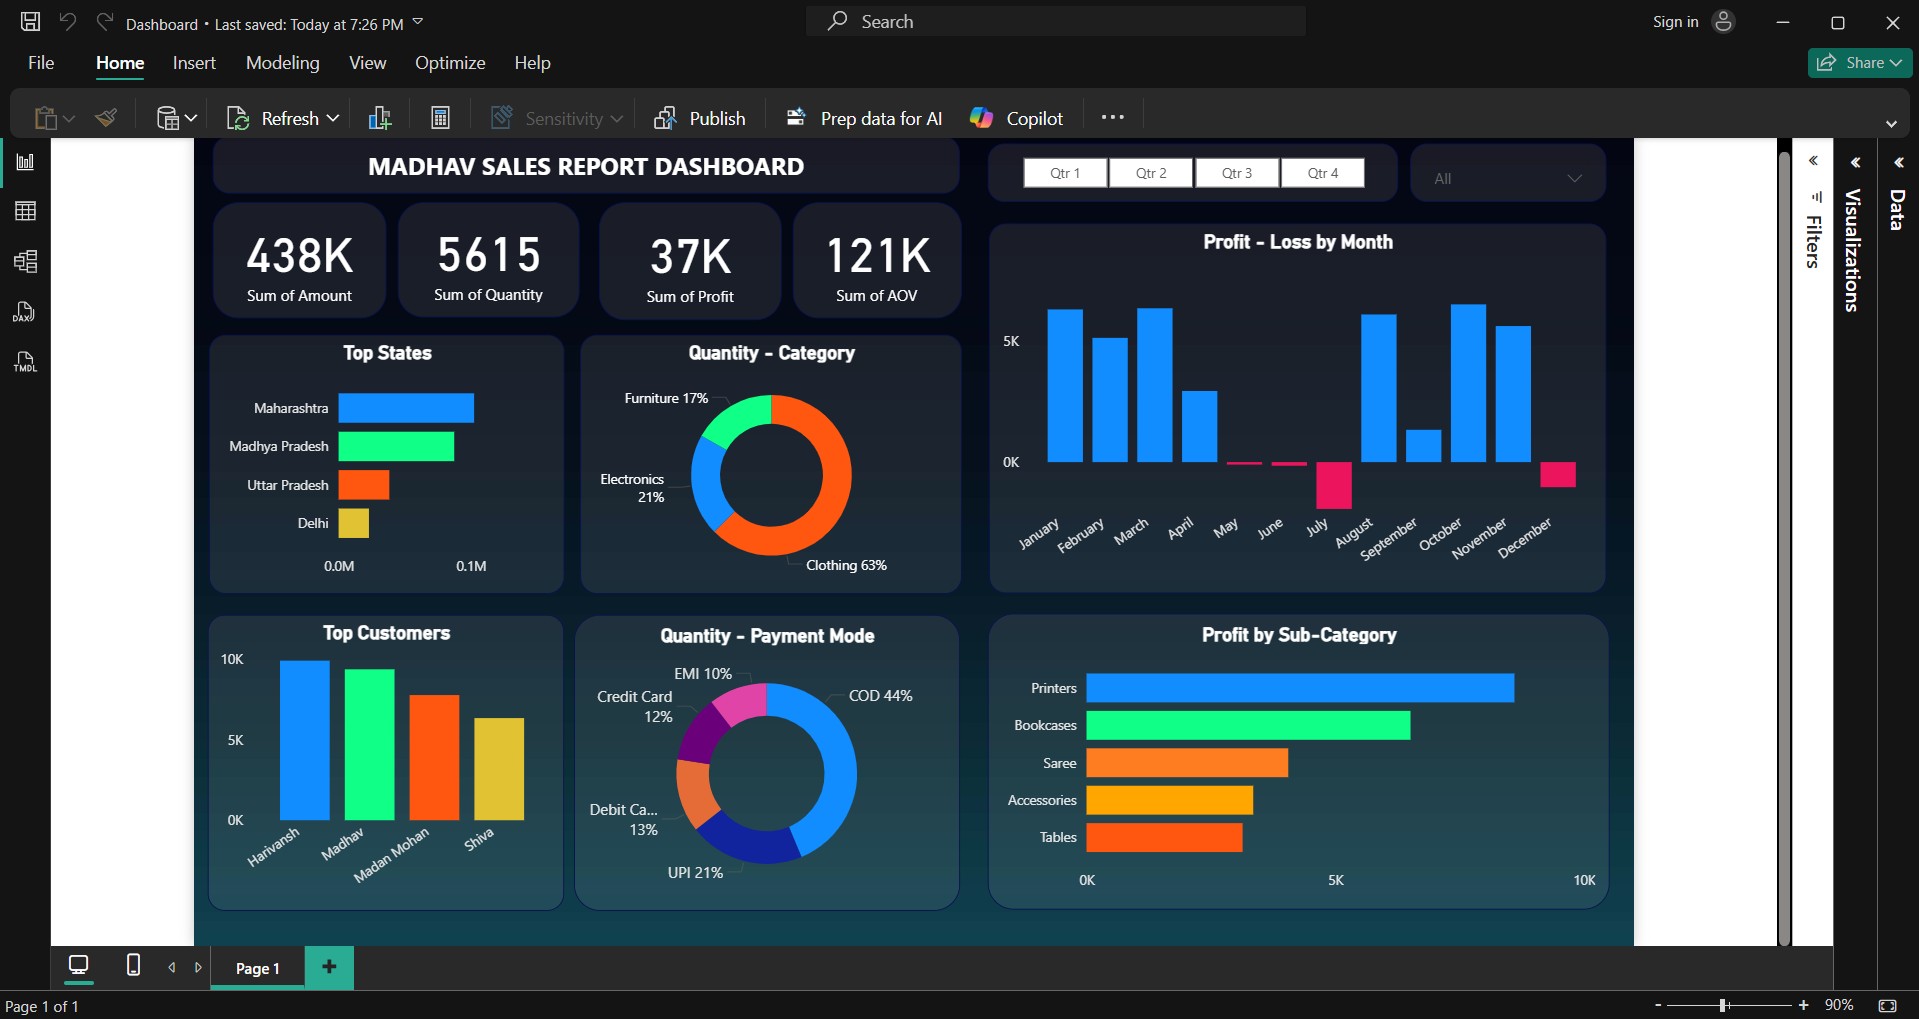

This screenshot's page, from the dashboard's own definition file:
{"tool":"powerbi","page":{"name":"Page 1","canvas":[1280,720],"ordinal":0},"visuals":[{"type":"textbox","box":[16.3,0,664,51.2],"z":0},{"type":"columnChart","title":"Profit - Loss by Month","fields":{"Y":["Sum(Details.Profit)"],"Category":["Orders.Order Date.Variation.Date Hierarchy.Month"]},"box":[707,77.9,548.8,329.1],"z":1000},{"type":"barChart","title":"Profit by Sub-Category","fields":{"Category":["Details.Sub-Category"],"Y":["Sum(Details.Profit)"]},"box":[705,424.8,553,263.5],"z":2000},{"type":"donutChart","title":"Quantity - Category","fields":{"Category":["Details.Category"],"Y":["Sum(Details.Quantity)"]},"box":[343,176.7,339.5,230.2],"z":3000},{"type":"donutChart","title":"Quantity - Payment Mode","fields":{"Category":["Details.PaymentMode"],"Y":["Sum(Details.Quantity)"]},"box":[337.6,425.4,343.1,263.5],"z":4000},{"type":"card","fields":{"Values":["Sum(Details.Amount)"]},"box":[16.3,59.3,154.7,103.5],"z":5000},{"type":"card","fields":{"Values":["Sum(Details.Quantity)"]},"box":[181.4,59.3,161.6,102.3],"z":6000},{"type":"card","fields":{"Values":["Sum(Details.AOV)"]},"box":[532.6,59.3,150,103.5],"z":7000},{"type":"card","fields":{"Values":["Sum(Details.Profit)"]},"box":[360.5,59.3,162.8,104.7],"z":8000},{"type":"columnChart","title":"Top Customers","fields":{"Category":["Orders.Customer Name"],"Y":["Sum(Details.Amount)"]},"box":[12.3,425.4,317,263.5],"z":9000},{"type":"barChart","title":"Top States","fields":{"Category":["Orders.State"],"Y":["Sum(Details.Amount)"]},"box":[12.8,176.7,316.3,230.2],"z":10000},{"type":"slicer","fields":{"Values":["Orders.Order Date.Variation.Date Hierarchy.Quarter"]},"box":[705.3,6.9,365,52.1],"z":11000},{"type":"slicer","fields":{"Values":["Orders.State"]},"box":[1081.4,7,174.4,52.3],"z":12000}]}

Visuals, with their boxes on the page's 1280x720 design canvas (x1, y1, x2, y2). These are canvas units, not pixel positions in the 1919x1019 screenshot, which may show the page scaled, cropped or inside an application window:
textbox: left=16, top=0, right=680, bottom=51
"Profit - Loss by Month" columnChart: left=707, top=78, right=1256, bottom=407
"Profit by Sub-Category" barChart: left=705, top=425, right=1258, bottom=688
"Quantity - Category" donutChart: left=343, top=177, right=682, bottom=407
"Quantity - Payment Mode" donutChart: left=338, top=425, right=681, bottom=689
card - Sum(Details.Amount): left=16, top=59, right=171, bottom=163
card - Sum(Details.Quantity): left=181, top=59, right=343, bottom=162
card - Sum(Details.AOV): left=533, top=59, right=683, bottom=163
card - Sum(Details.Profit): left=360, top=59, right=523, bottom=164
"Top Customers" columnChart: left=12, top=425, right=329, bottom=689
"Top States" barChart: left=13, top=177, right=329, bottom=407
slicer - Orders.Order Date.Variation.Date Hierarchy.Quarter: left=705, top=7, right=1070, bottom=59
slicer - Orders.State: left=1081, top=7, right=1256, bottom=59
